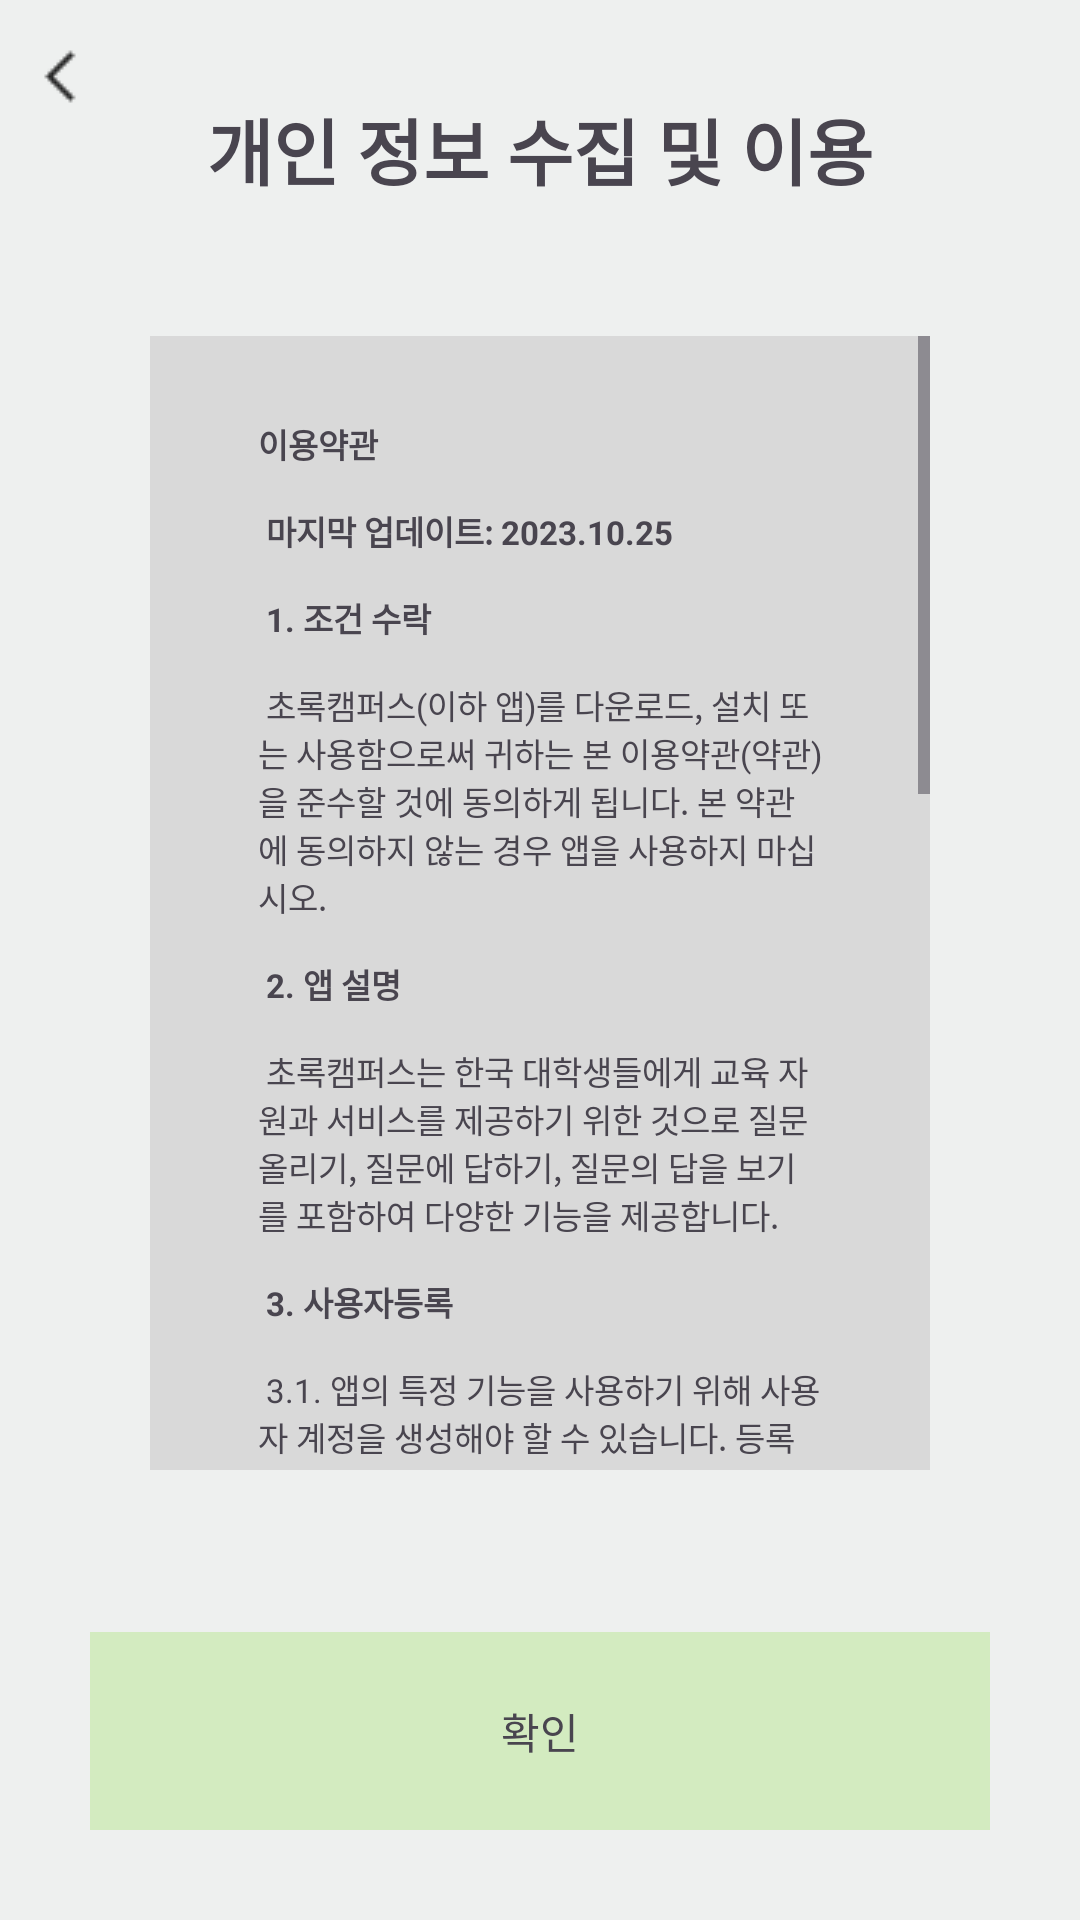

Icons on this 1080px×1920px Android screen, each with the point to tap as [x,y]:
back arrow: [60,76]
